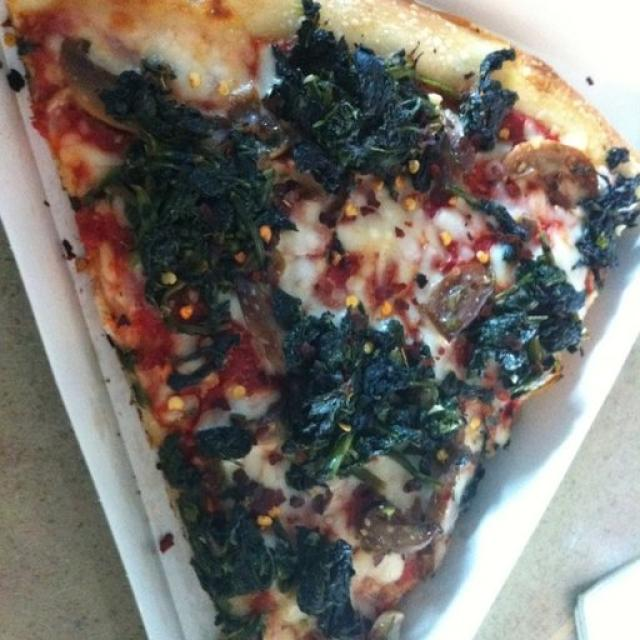Basil: (116, 94, 272, 290), (291, 314, 458, 481), (294, 37, 446, 178), (152, 428, 263, 597), (458, 284, 580, 391), (292, 527, 368, 629), (587, 180, 640, 259)
Pizza: (0, 0, 640, 640)
